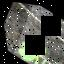Purslane: (4, 0, 64, 64)
